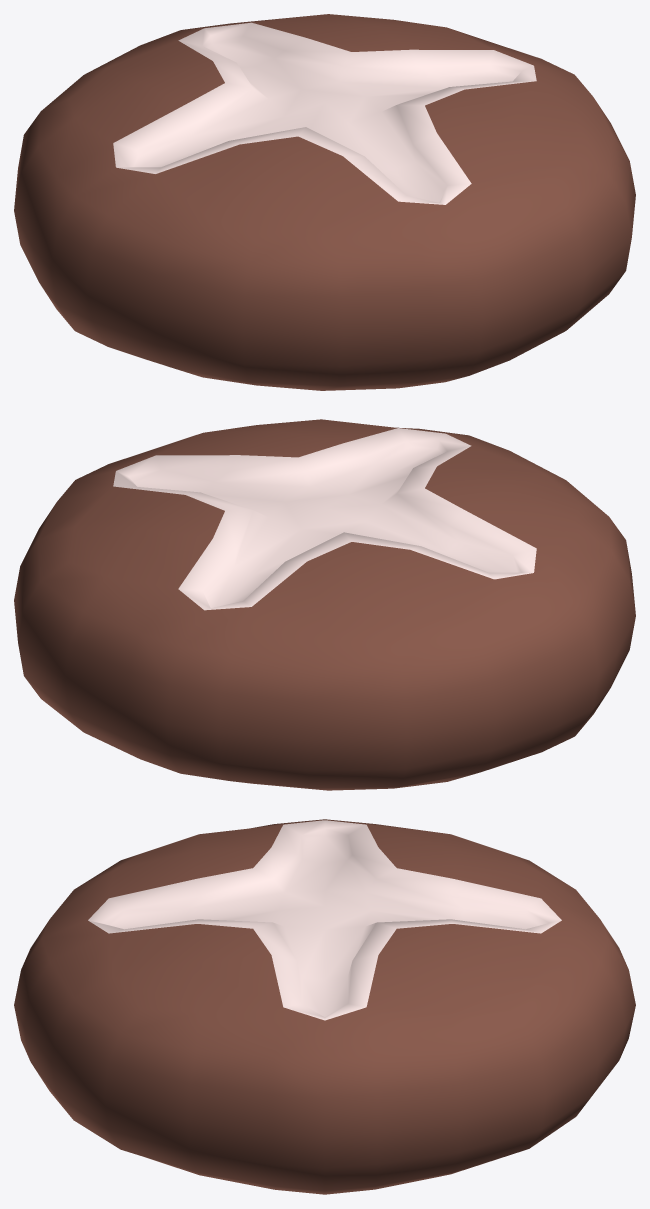
Rendered from Store_3_Bread_1.glb.
3 views of the same model, one above another, from view 1: azimuth 30°, elevation 25°; view 2: azimuth 150°, elevation 25°; view 3: azimuth 270°, elevation 25° (orthographic).
Parts seen in each view (by area): view 1: Store_3_Bread_1; view 2: Store_3_Bread_1; view 3: Store_3_Bread_1.
Part boxes in pixels (bbox=[...]): Store_3_Bread_1: bbox=[14, 14, 635, 390]; Store_3_Bread_1: bbox=[14, 419, 635, 790]; Store_3_Bread_1: bbox=[14, 819, 635, 1194].
Size of the model in its own units: 0.5231 by 0.2005 by 0.5232.
1 material, 1 textured.
